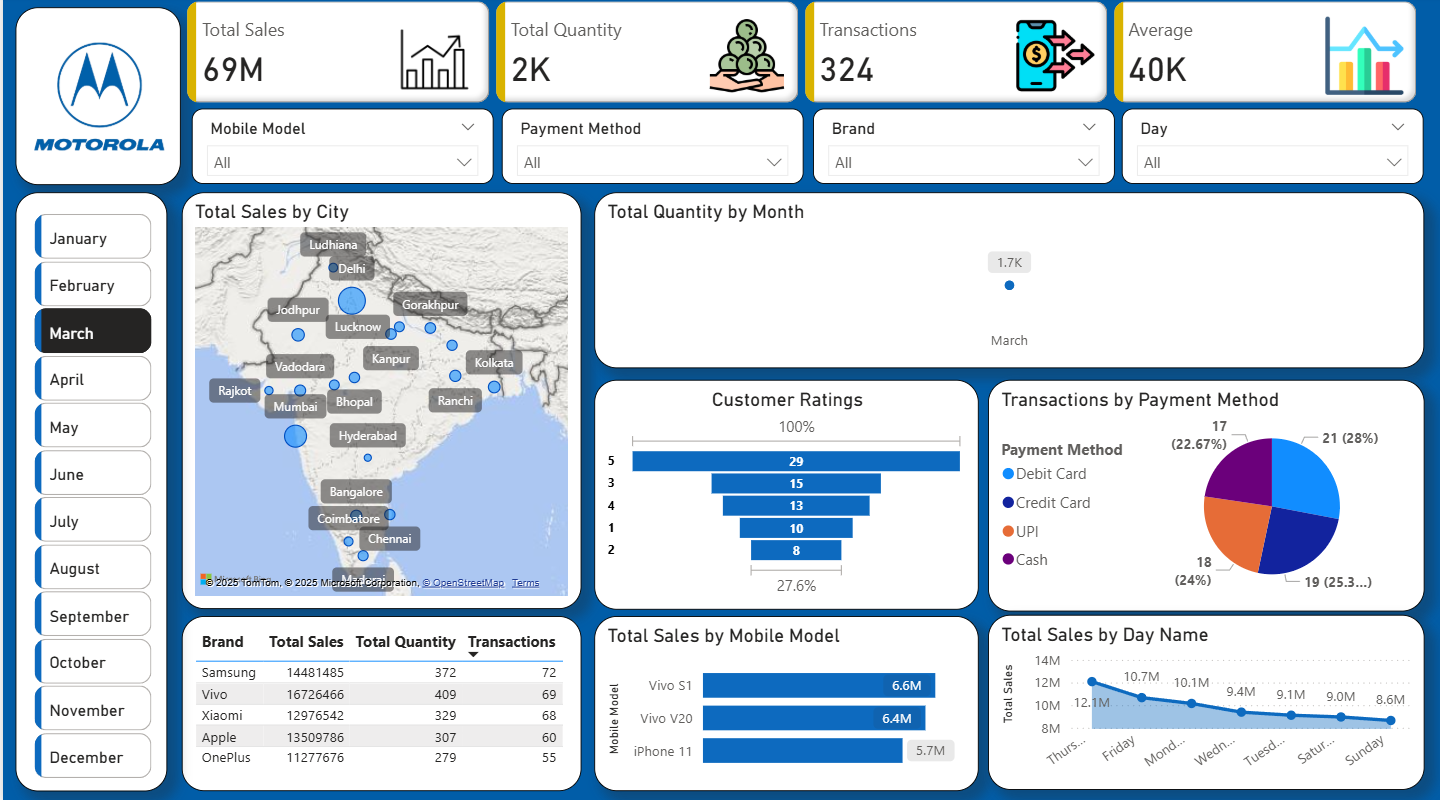

The page's visual inventory and layout, read from the dashboard file:
{"tool":"powerbi","page":{"name":"Page 1","canvas":[1280,720],"ordinal":0},"visuals":[{"type":"shape","box":[10.9,9.7,147.2,158],"z":0},{"type":"image","box":[19.3,26.5,133.9,125.5],"z":1000},{"type":"cardVisual","fields":{"Data":["Sales_Data.Total Sales","Sales_Data.Total Quantity","Sales_Data.Trandactions","Sales_Data.Average"]},"box":[159.3,0,1106.3,100.1],"z":2000},{"type":"map","fields":{"Category":["Sales_Data.City"],"Size":["Sales_Data.Total Sales"]},"box":[159.3,174.9,355.9,371.6],"z":3000},{"type":"lineChart","fields":{"Y":["Sales_Data.Total Quantity"],"Category":["Sales_Data.Date.Variation.Date Hierarchy.Month","Sales_Data.Date.Variation.Date Hierarchy.Day"]},"box":[526,174.9,739.5,156.8],"z":4000},{"type":"clusteredBarChart","fields":{"Category":["Sales_Data.Mobile Model"],"Y":["Sales_Data.Total Sales"]},"box":[526,552.5,342.6,155.6],"z":5000},{"type":"pieChart","fields":{"Category":["Sales_Data.Payment Method"],"Y":["Sales_Data.Trandactions"]},"box":[877.1,341.4,388.5,206.3],"z":6000},{"type":"funnel","title":" Customer Ratings","fields":{"Category":["Sales_Data.Customer Ratings"],"Y":["CountNonNull(Sales_Data.Customer Ratings)"]},"box":[526,341.4,342.6,205.1],"z":7000},{"type":"areaChart","fields":{"Category":["Sales_Data.Day Name"],"Y":["Sales_Data.Total Sales"]},"box":[877.1,551.3,388.5,155.6],"z":8000},{"type":"tableEx","fields":{"Values":["Sales_Data.Brand","Sales_Data.Total Sales","Sales_Data.Total Quantity","Sales_Data.Trandactions"]},"box":[159.3,552.5,355.9,155.6],"z":9000},{"type":"slicer","fields":{"Values":["Sales_Data.Mobile Model"]},"box":[167.7,100.1,269,67.6],"z":10000},{"type":"shape","box":[10.9,174.9,135.1,533.2],"z":11000},{"type":"advancedSlicerVisual","fields":{"Values":["Sales_Data.Date.Variation.Date Hierarchy.Month"]},"box":[22.9,189.4,114.6,512.7],"z":12000},{"type":"slicer","fields":{"Values":["Sales_Data.Payment Method"]},"box":[444,100.1,269,67.6],"z":13000},{"type":"slicer","fields":{"Values":["Sales_Data.Brand"]},"box":[721.5,100.1,269,67.6],"z":14000},{"type":"slicer","fields":{"Values":["Sales_Data.Date.Variation.Date Hierarchy.Day"]},"box":[996.5,100.1,269,67.6],"z":15000}]}

Visuals, with their boxes in screenshot pixels (x1, y1, x2, y2), scaled from the page's 1280x720 canvas onto the 1440x800 screenshot:
shape: <box>12,11,178,186</box>
image: <box>22,29,172,169</box>
cardVisual - Sales_Data.Total Sales x Sales_Data.Total Quantity: <box>179,0,1424,111</box>
map - Sales_Data.City x Sales_Data.Total Sales: <box>179,194,580,607</box>
lineChart - Sales_Data.Total Quantity x Sales_Data.Date.Variation.Date Hierarchy.Month: <box>592,194,1424,369</box>
clusteredBarChart - Sales_Data.Mobile Model x Sales_Data.Total Sales: <box>592,614,977,787</box>
pieChart - Sales_Data.Payment Method x Sales_Data.Trandactions: <box>987,379,1424,609</box>
" Customer Ratings" funnel: <box>592,379,977,607</box>
areaChart - Sales_Data.Day Name x Sales_Data.Total Sales: <box>987,613,1424,785</box>
tableEx - Sales_Data.Brand x Sales_Data.Total Sales: <box>179,614,580,787</box>
slicer - Sales_Data.Mobile Model: <box>189,111,491,186</box>
shape: <box>12,194,164,787</box>
advancedSlicerVisual - Sales_Data.Date.Variation.Date Hierarchy.Month: <box>26,210,155,780</box>
slicer - Sales_Data.Payment Method: <box>500,111,802,186</box>
slicer - Sales_Data.Brand: <box>812,111,1114,186</box>
slicer - Sales_Data.Date.Variation.Date Hierarchy.Day: <box>1121,111,1424,186</box>
